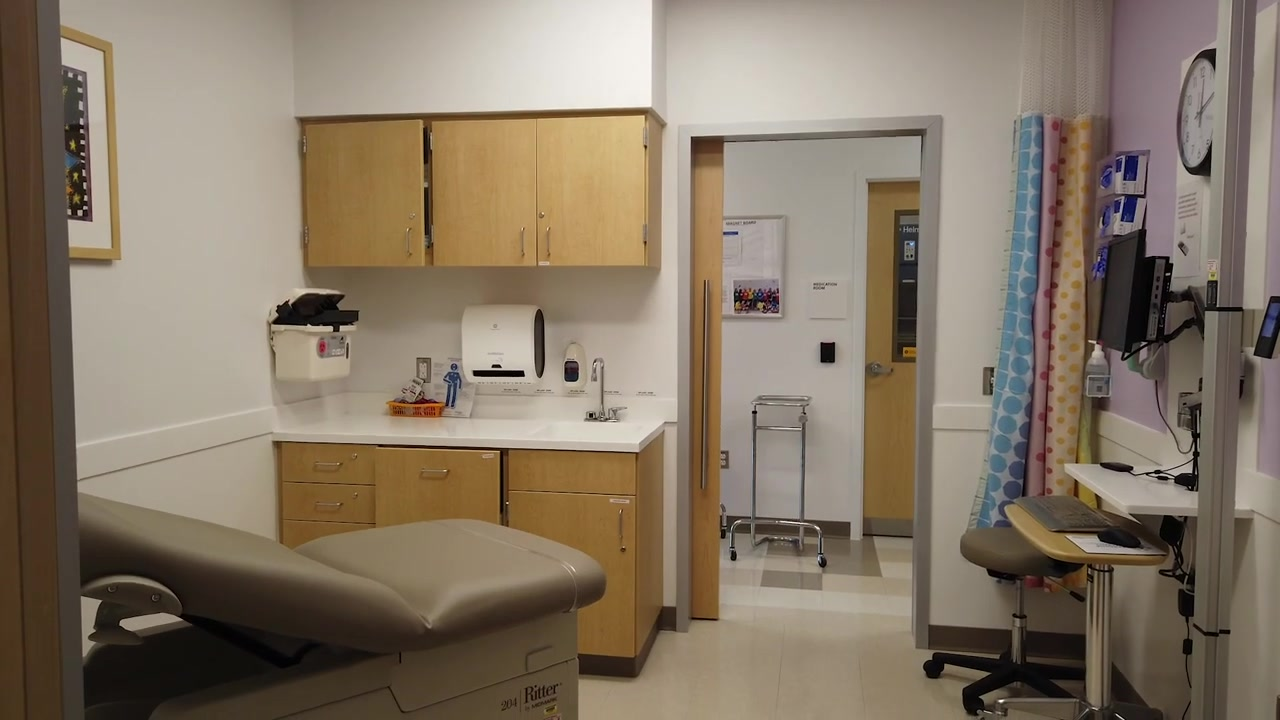cabinet: (297, 114, 666, 271)
chair: (927, 527, 1091, 708)
computer: (1097, 226, 1165, 354)
counter: (274, 415, 666, 678)
countertop: (274, 417, 661, 451), (1069, 461, 1255, 521)
curtain: (971, 1, 1122, 500)
dispenser: (462, 305, 545, 385), (1098, 152, 1151, 232), (1083, 340, 1111, 398), (562, 343, 586, 392)
door_handle: (870, 365, 896, 377)
exam_table: (76, 490, 605, 720)
faucet: (586, 358, 627, 421)
handle: (699, 278, 719, 492), (541, 225, 556, 258), (403, 226, 418, 258), (616, 506, 625, 552), (420, 465, 453, 477), (312, 459, 344, 471), (313, 499, 343, 510), (518, 226, 528, 257)
keyboard: (1017, 493, 1126, 535)
mouse: (1099, 526, 1142, 548)
sink: (528, 420, 656, 446)
utility_cart: (727, 395, 828, 568)
